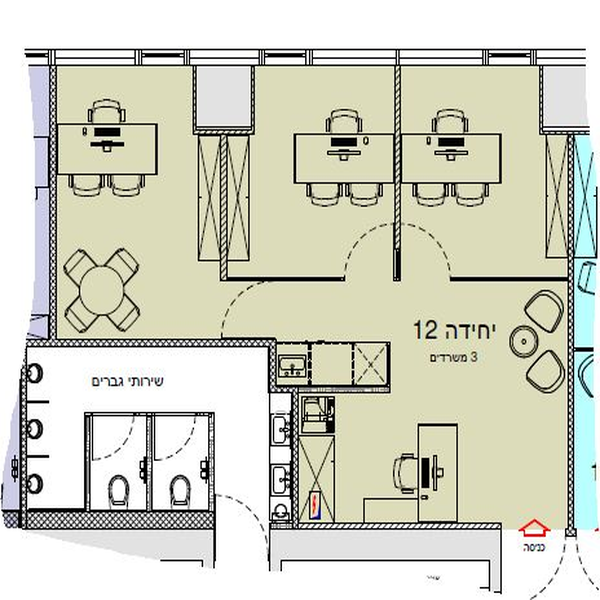door: (217, 493, 271, 564), (220, 279, 277, 340), (400, 216, 450, 279), (342, 220, 392, 281), (87, 412, 143, 460), (152, 410, 203, 462)
room: (20, 342, 274, 526), (396, 43, 576, 287), (220, 64, 398, 285)
